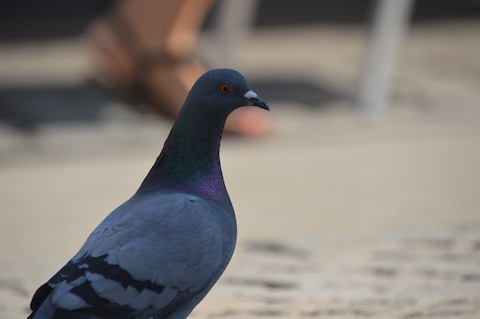pigeon: (25, 64, 273, 309)
